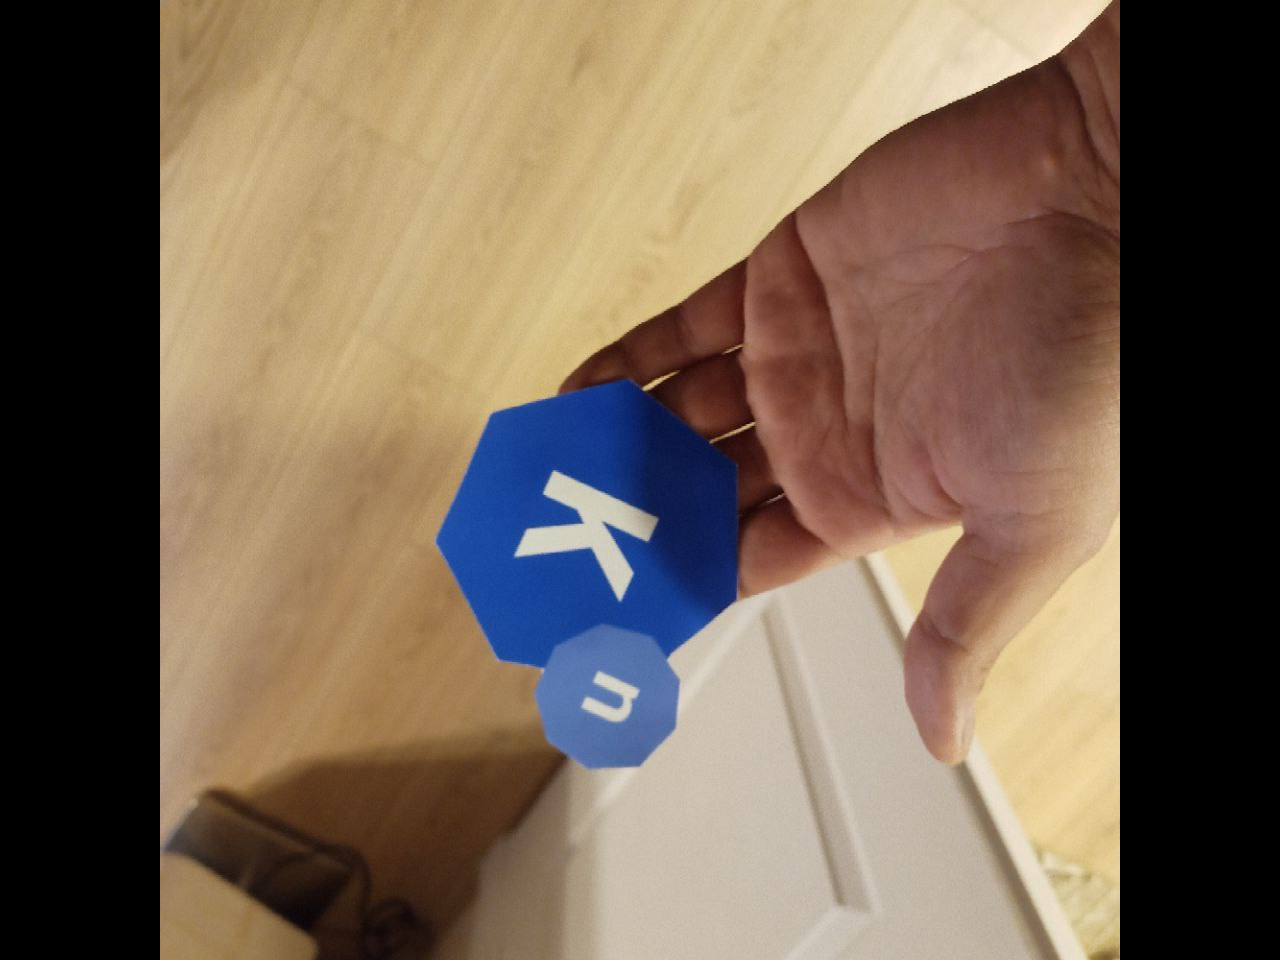knative: (432, 377, 742, 772)
